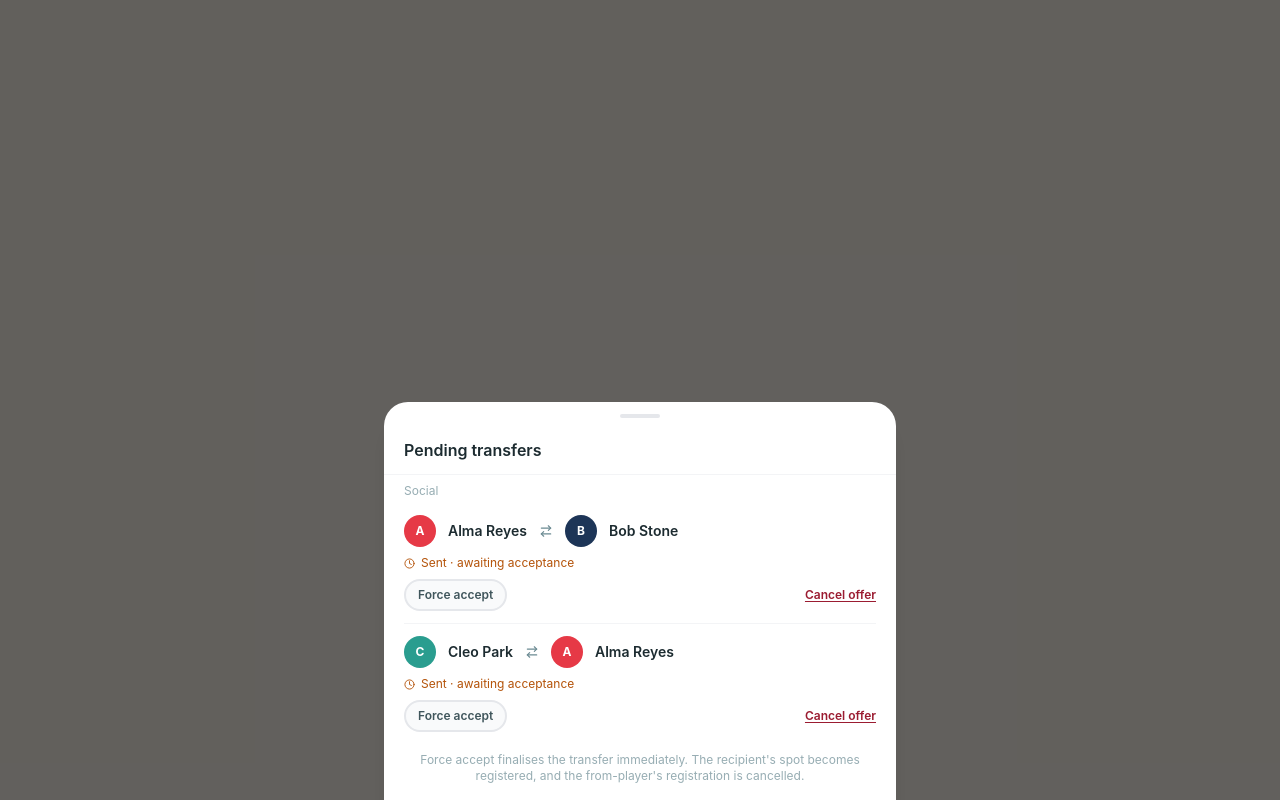
Test case: AdminTransferPanel › shows a failed force-accept in its own row
Click the button "Force accept" below "Cleo Park". click: {"x": 456, "y": 716}
box: [404, 700, 507, 732]
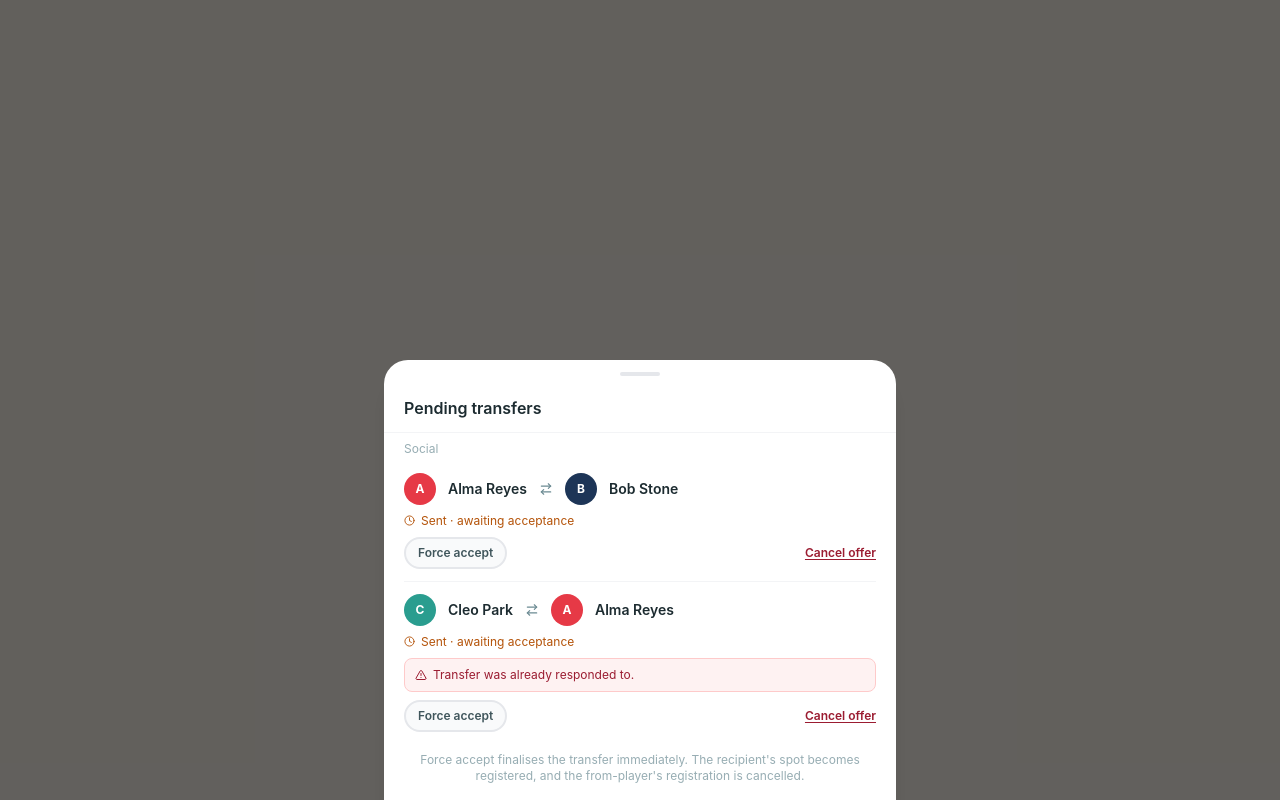
expect the message reads "Transfer was already responded to.": met, box [433, 666, 634, 682]
